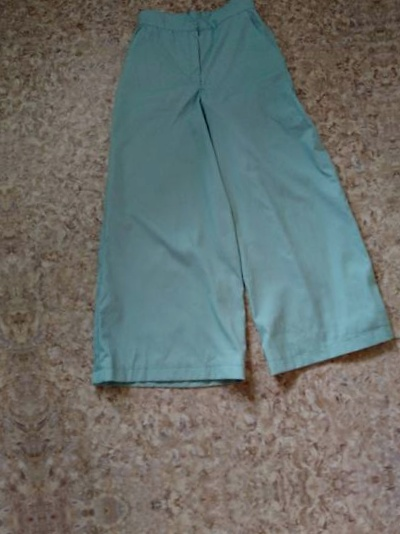Pants: (44, 0, 400, 403), (376, 0, 400, 365)
